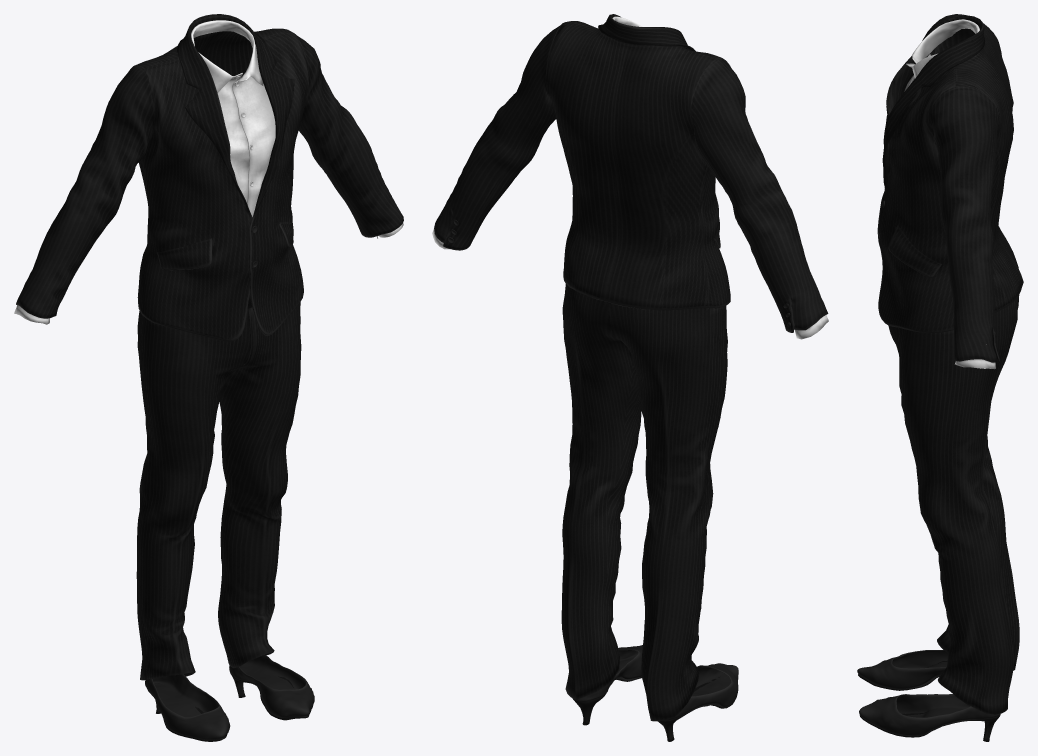
Rendered from outfit_0.fbx.
3 renders of one model, left to right at view 1: azimuth 30°, elevation 25°; view 2: azimuth 150°, elevation 25°; view 3: azimuth 270°, elevation 25°, orthographic. The views are drawn at different scales.
Visible parts, largest first — view 1: outfit_0; view 2: outfit_0; view 3: outfit_0.
Part boxes in pixels (left/top/right/bottom): outfit_0: left=14, top=14, right=403, bottom=741; outfit_0: left=432, top=14, right=828, bottom=741; outfit_0: left=857, top=14, right=1023, bottom=741.
Bounding box in the file's own units: 95.18 × 165 × 35.68.
